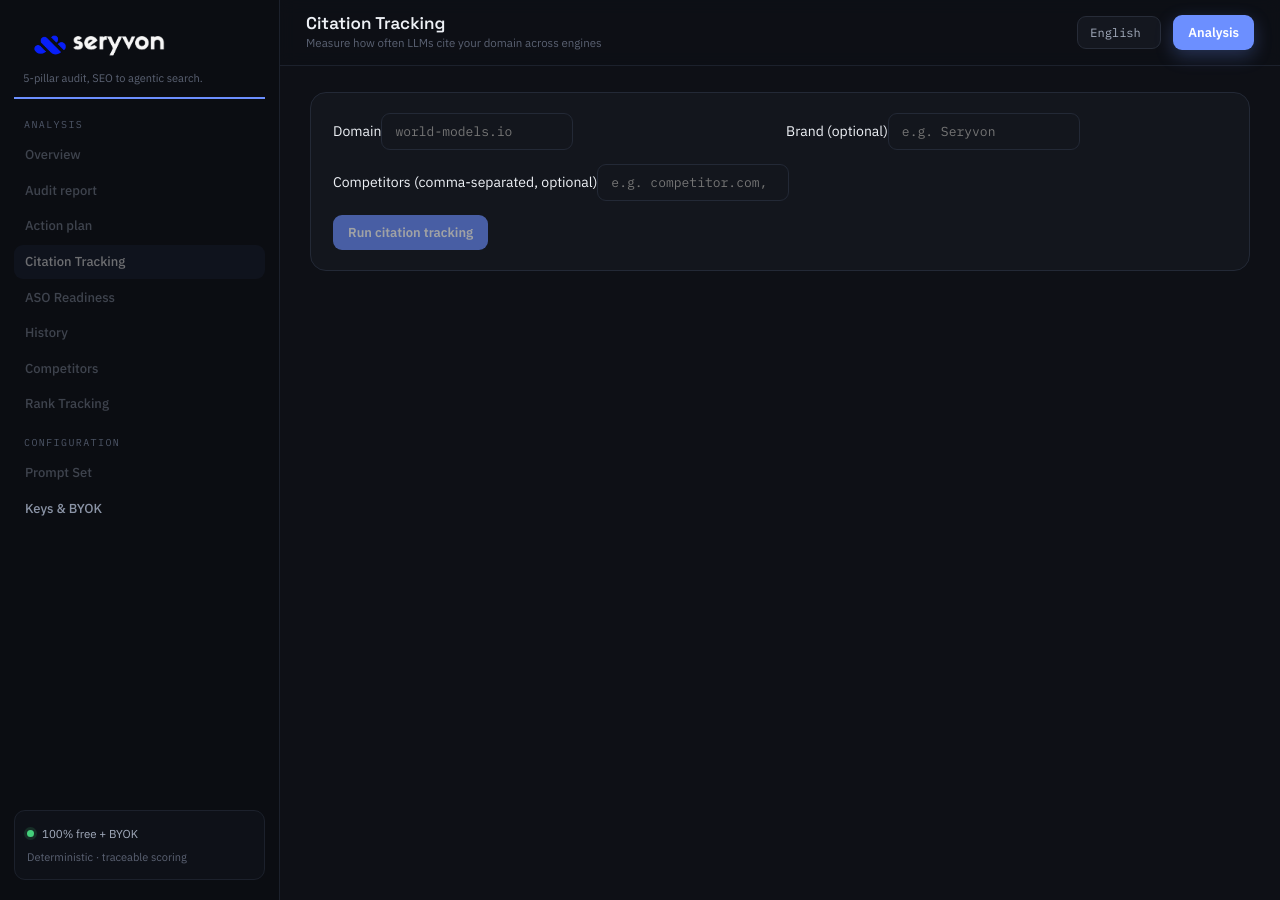
shows an API error message when citation start fails for another reason
Type "example.com" into the field labelled "Domain". click: {"x": 477, "y": 132}
box: [381,113,573,150]
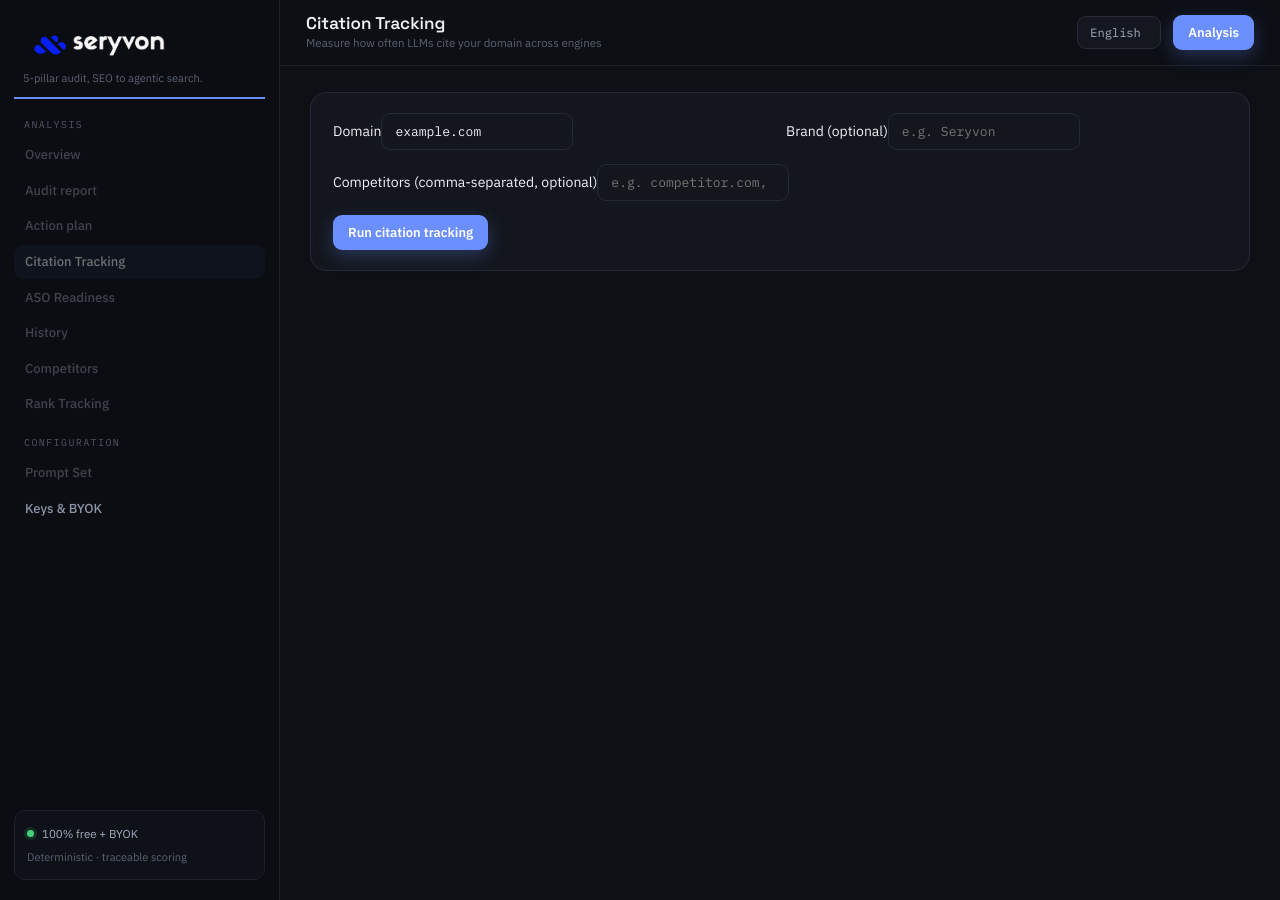
Click the button "Run citation tracking". click: {"x": 411, "y": 232}
box: [333,215,488,250]
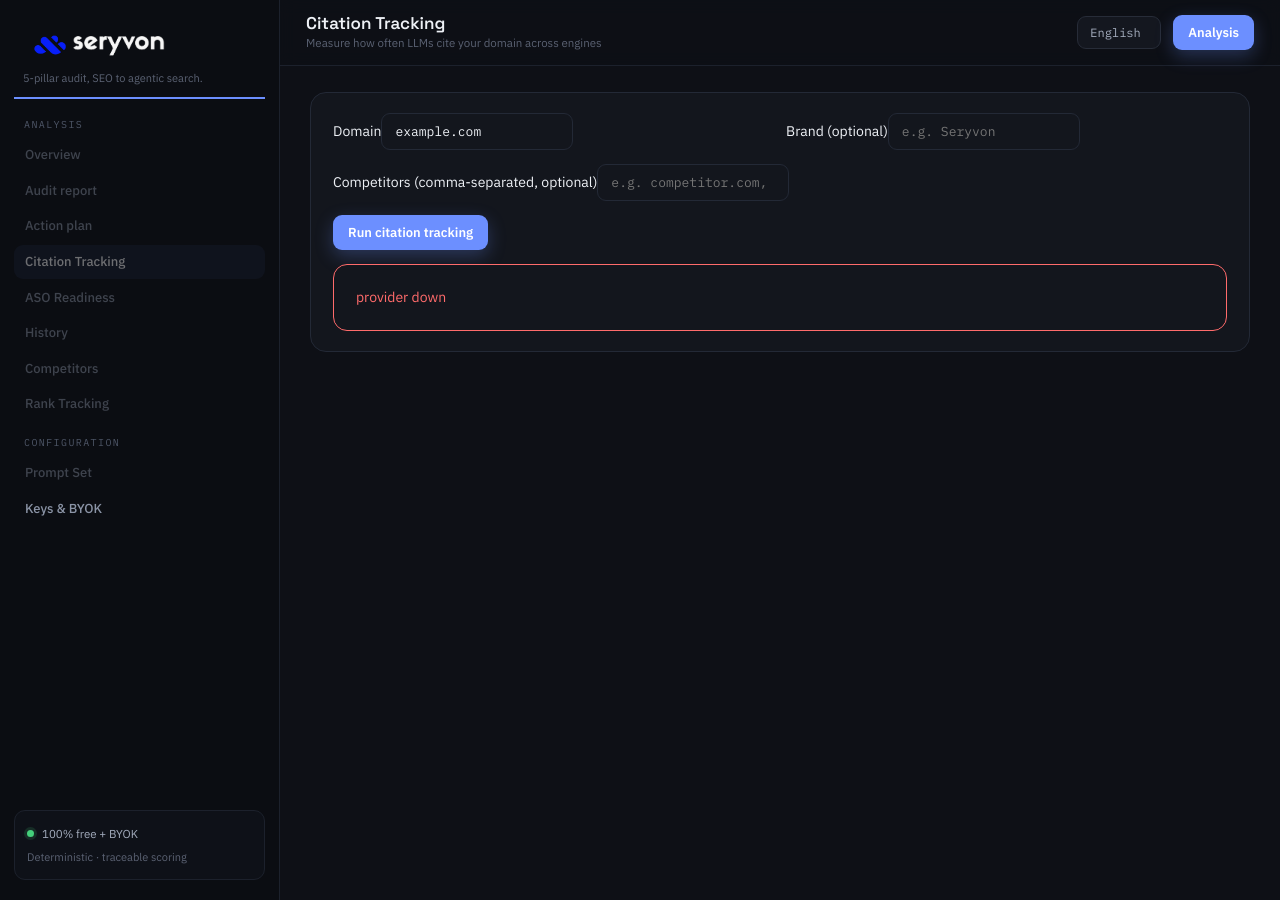
Result: the text "provider down" is shown at [333,264,1227,331]
